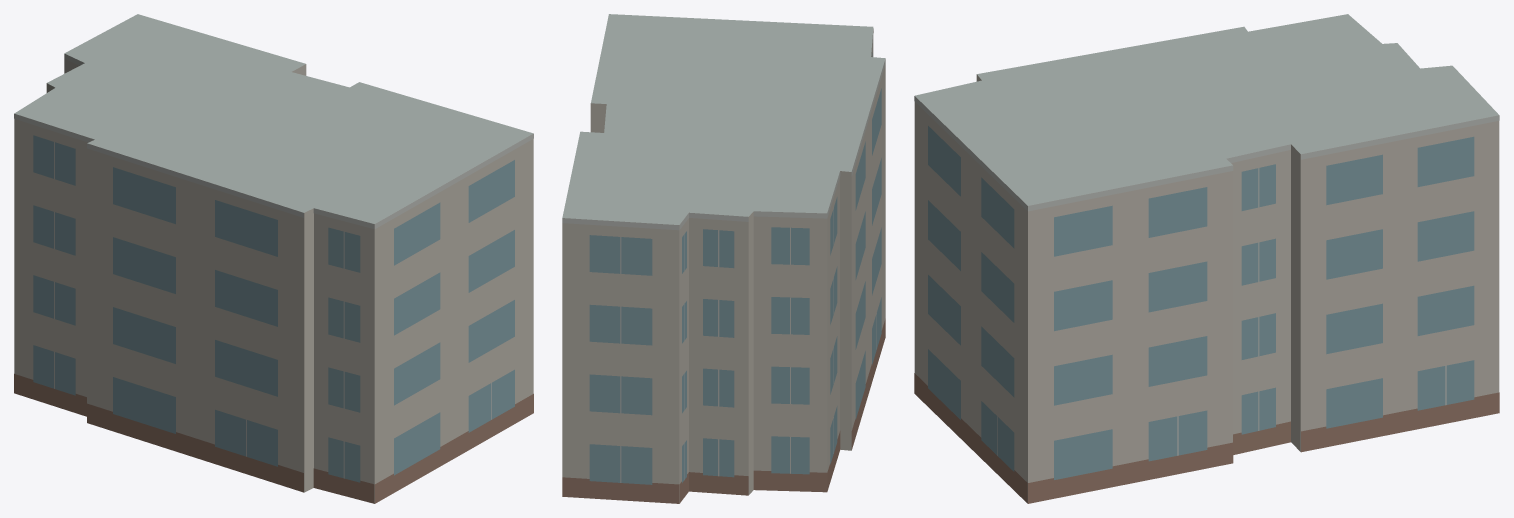
File: survey-upis-32644883.glb
The picture shows the model from 3 angles, left to right: view 1: azimuth 30°, elevation 25°; view 2: azimuth 150°, elevation 25°; view 3: azimuth 270°, elevation 25°; orthographic projection. The views are drawn at different scales.
Visible parts, largest first — view 1: survey-upis-32644883.tmp; view 2: survey-upis-32644883.tmp; view 3: survey-upis-32644883.tmp.
Part boxes in pixels (x1=…): survey-upis-32644883.tmp: x1=14, y1=14, x2=533, y2=503; survey-upis-32644883.tmp: x1=562, y1=14, x2=885, y2=503; survey-upis-32644883.tmp: x1=914, y1=14, x2=1499, y2=503.
Bounding box in the file's own units: 18.25 × 13.2 × 23.5.
